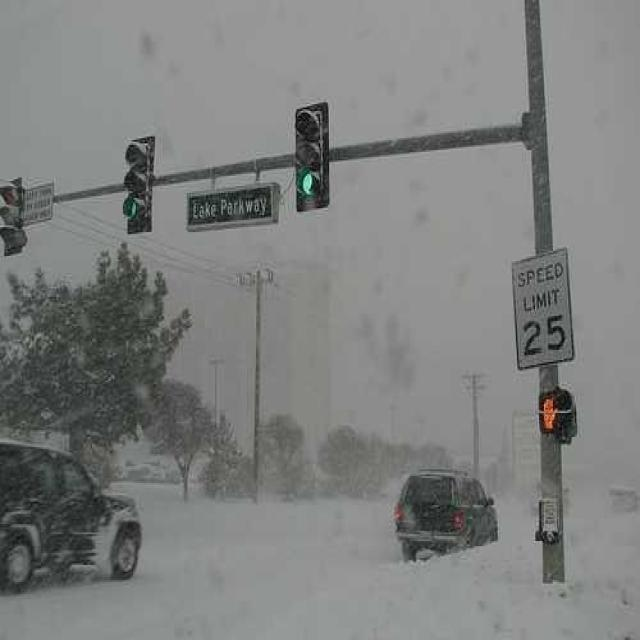Traffic Light -Green-: (292, 102, 329, 210), (119, 137, 155, 230)
